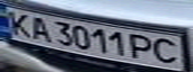0: (69, 24, 90, 52)
1: (106, 29, 130, 57), (87, 26, 109, 54)
3: (48, 19, 75, 47)
A: (24, 15, 54, 43)
C: (151, 36, 184, 65)
K: (3, 9, 33, 38)
P: (127, 33, 160, 61)
